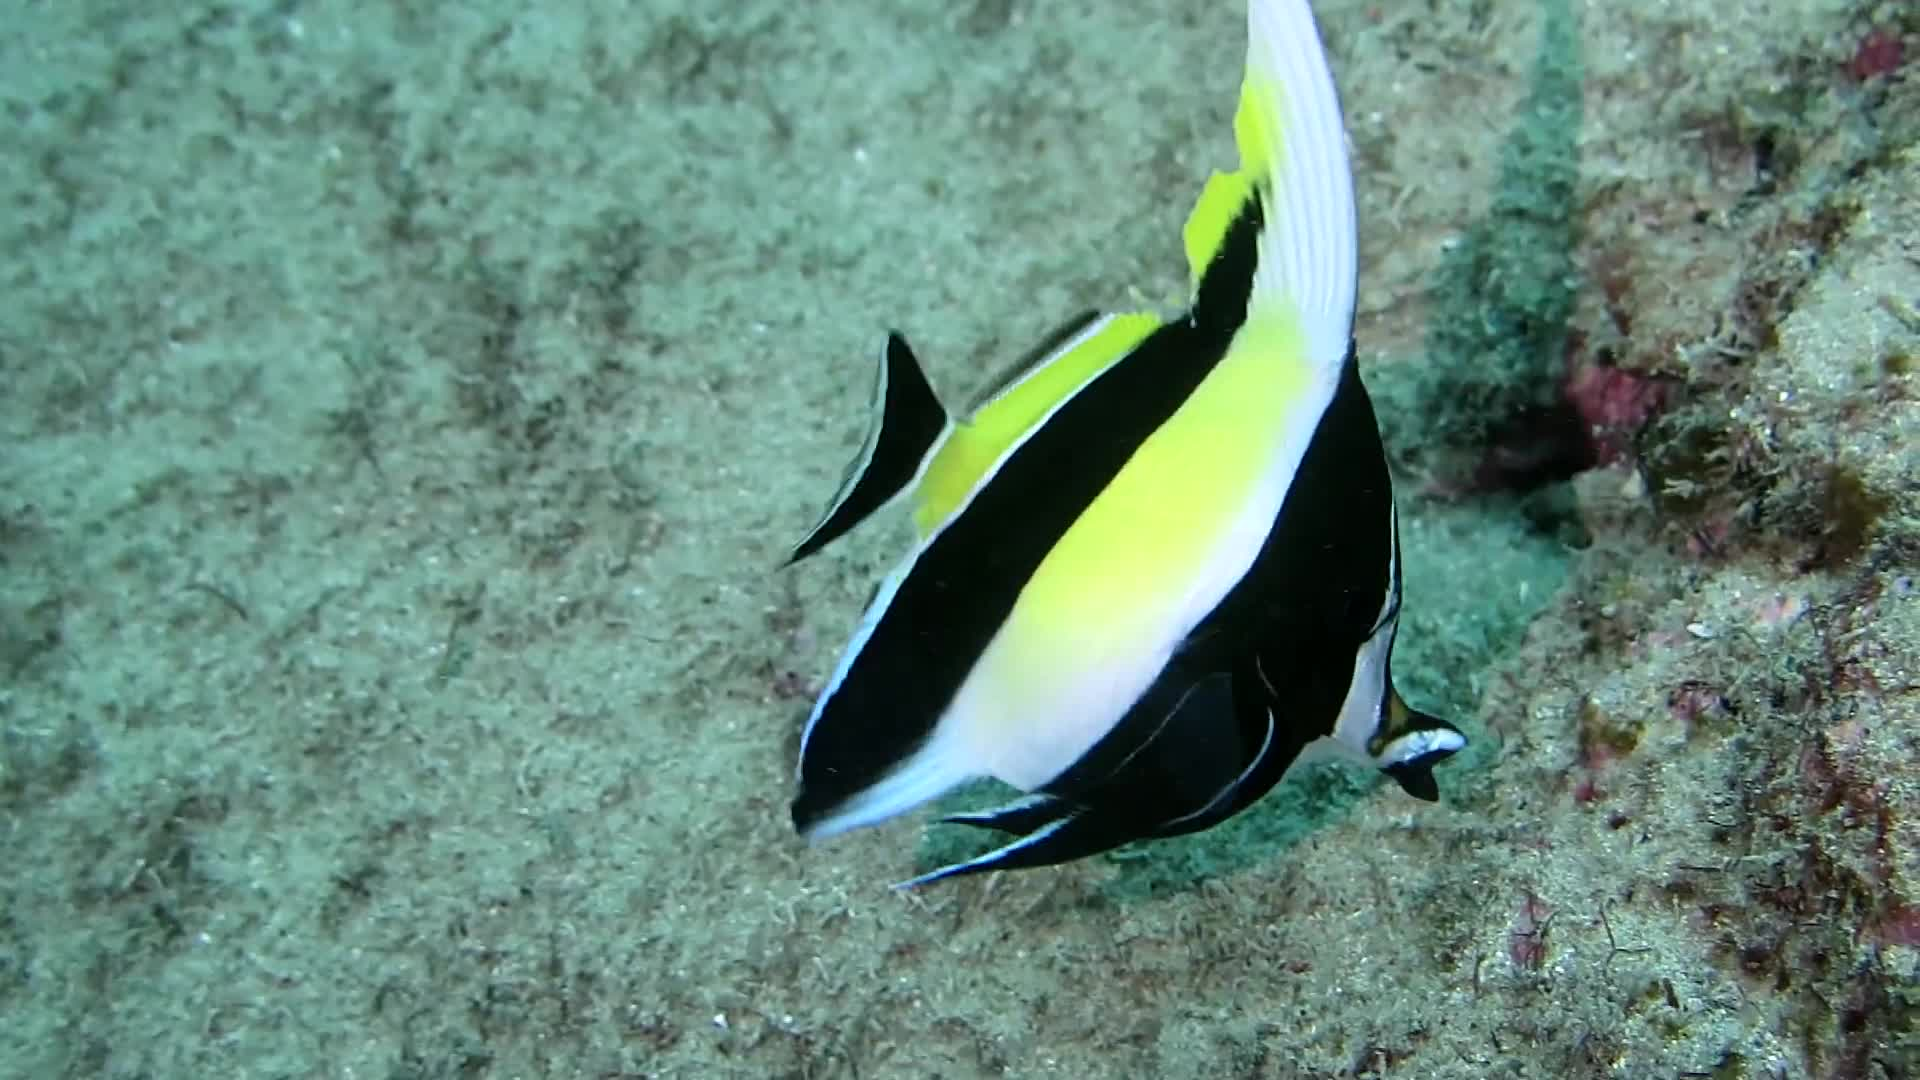Zanclus cornutus: (786, 189, 1515, 910)
